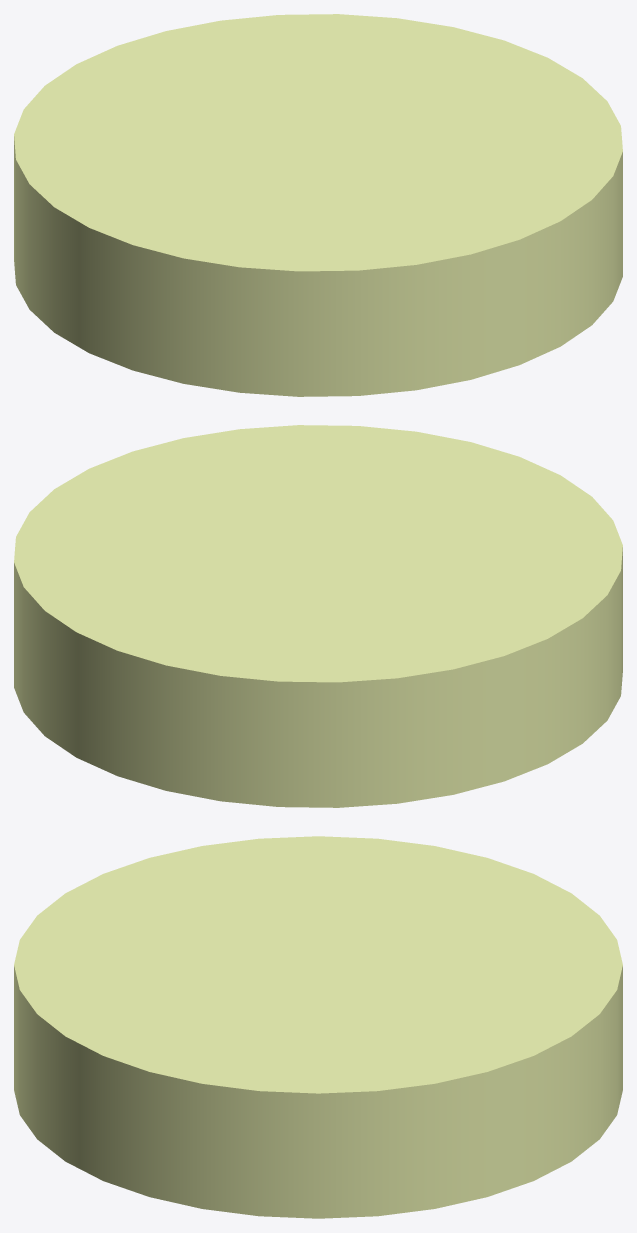
Rendered from Checker.glb.
3 views of the same model, one above another, from view 1: azimuth 30°, elevation 25°; view 2: azimuth 150°, elevation 25°; view 3: azimuth 270°, elevation 25° (orthographic).
Visible parts, largest first — view 1: Cylinder; view 2: Cylinder; view 3: Cylinder.
Boxes of the visible parts, left/top/right/bottom form: Cylinder: left=14, top=14, right=622, bottom=396; Cylinder: left=14, top=425, right=622, bottom=807; Cylinder: left=14, top=836, right=622, bottom=1218.
Size of the model in its own units: 2.8 by 0.635 by 2.8.
